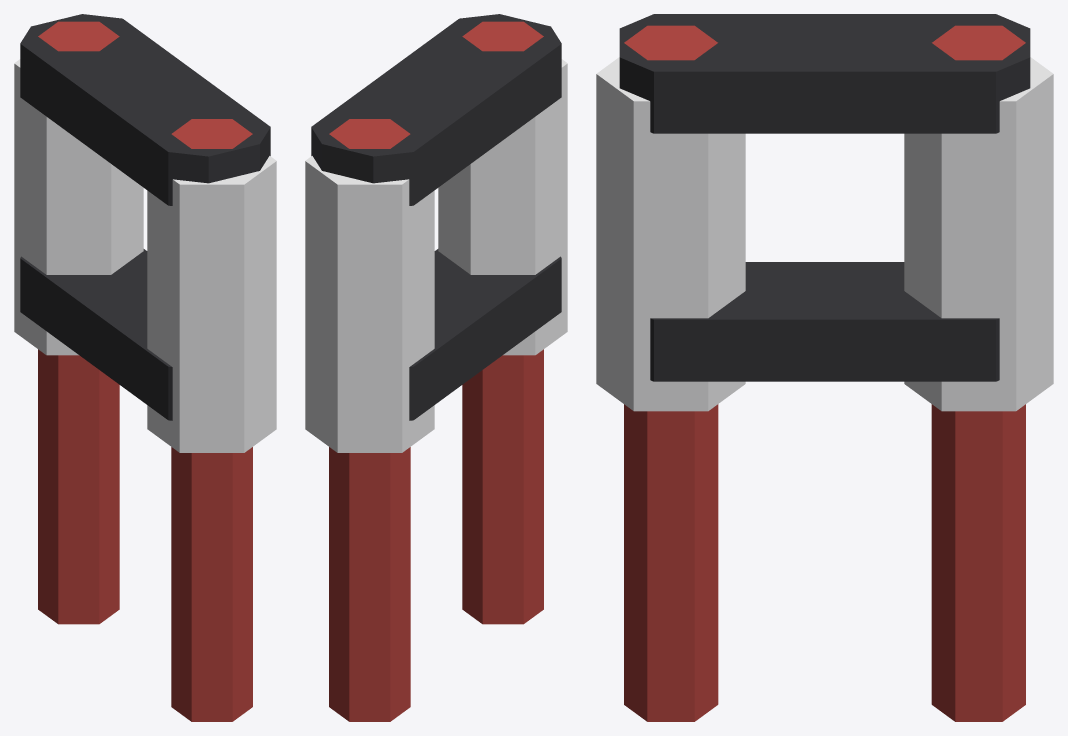
The model's file is tourer_fork_chrome_upper_lod2.glb.
The picture shows the model from 3 angles, left to right: view 1: azimuth 30°, elevation 25°; view 2: azimuth 150°, elevation 25°; view 3: azimuth 270°, elevation 25°; orthographic projection. The views are drawn at different scales.
Visible parts, largest first — view 1: tourer_fork_chrome_upper_lod2; view 2: tourer_fork_chrome_upper_lod2; view 3: tourer_fork_chrome_upper_lod2.
Boxes of the visible parts, bbox=[...] form: tourer_fork_chrome_upper_lod2: bbox=[14, 14, 276, 721]; tourer_fork_chrome_upper_lod2: bbox=[305, 14, 567, 721]; tourer_fork_chrome_upper_lod2: bbox=[596, 14, 1053, 721].
Size of the model in its own units: 0.08 by 0.427 by 0.2674.
